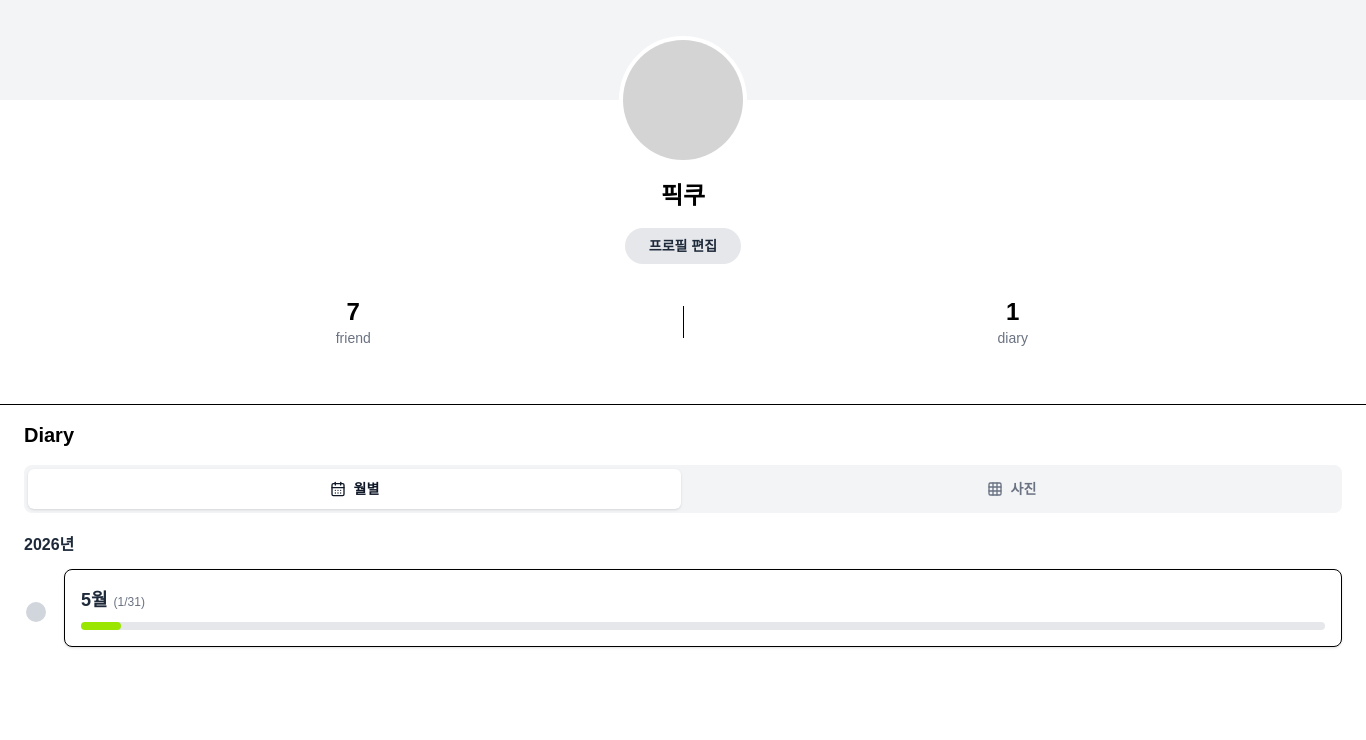
Scenario: ProfileClient › Diary 섹션 선택 UI에서 사진을 선택하면 갤러리 API로 사진 그리드를 불러온다
The width and height of the screenshot is (1366, 740).
Check: the text "5월" is shown, box x1=81 y1=586 x2=108 y2=614
Click the button "사진". click: (1012, 489)
box: x1=685 y1=469 x2=1338 y2=509
(page scrolled)
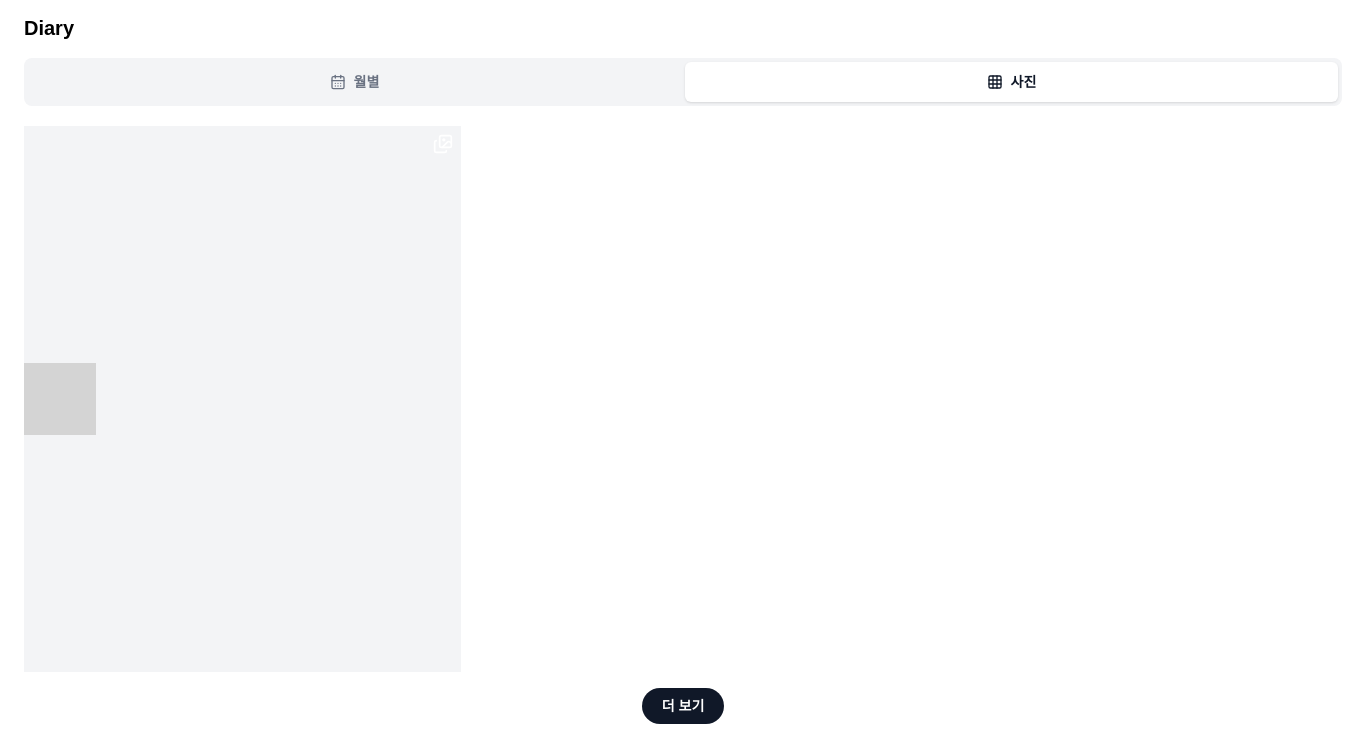
Check: the element with test id "profile-diary-photo-grid" is shown, box x1=24 y1=126 x2=461 y2=672
Check: the text "5월" is gone
Click the button "더 보기". click: (683, 706)
box: x1=642 y1=688 x2=724 y2=724
(page scrolled)
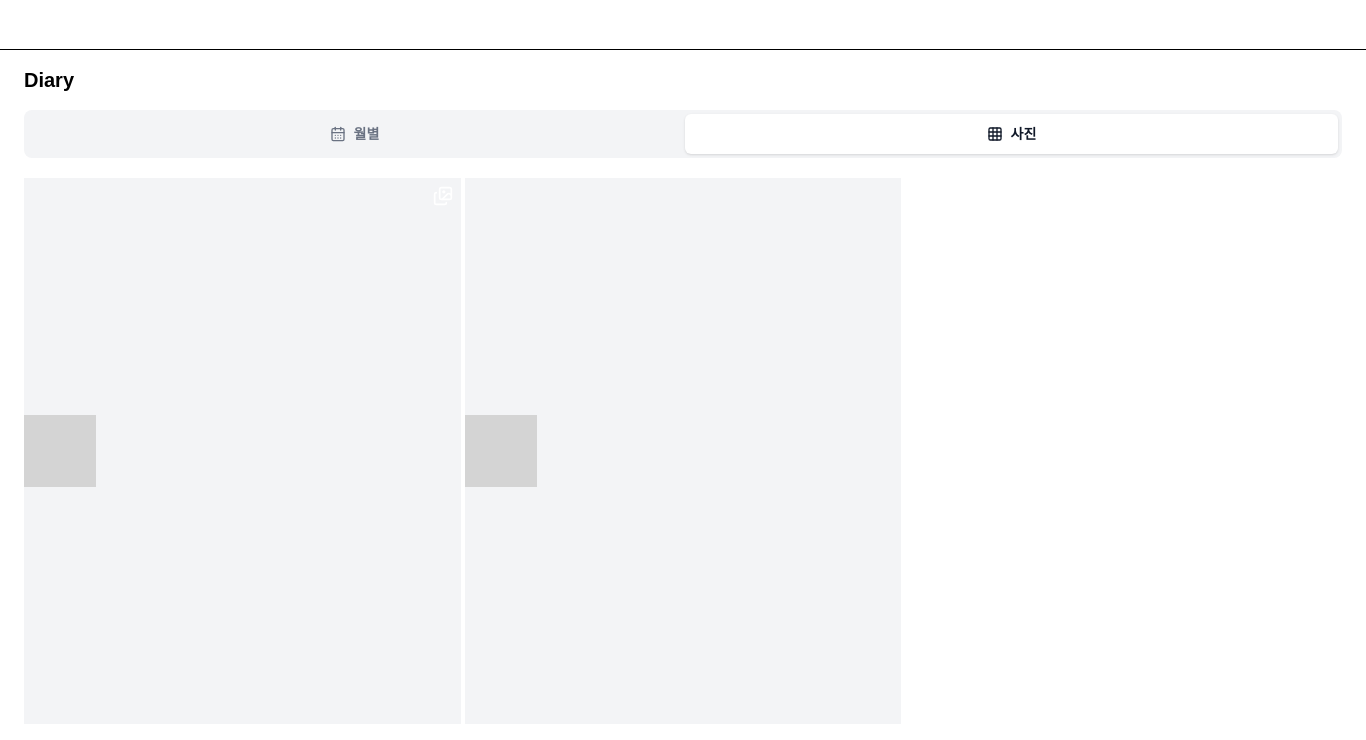
Click the button "월별". click: (354, 134)
box: x1=28 y1=114 x2=681 y2=154
(page scrolled)
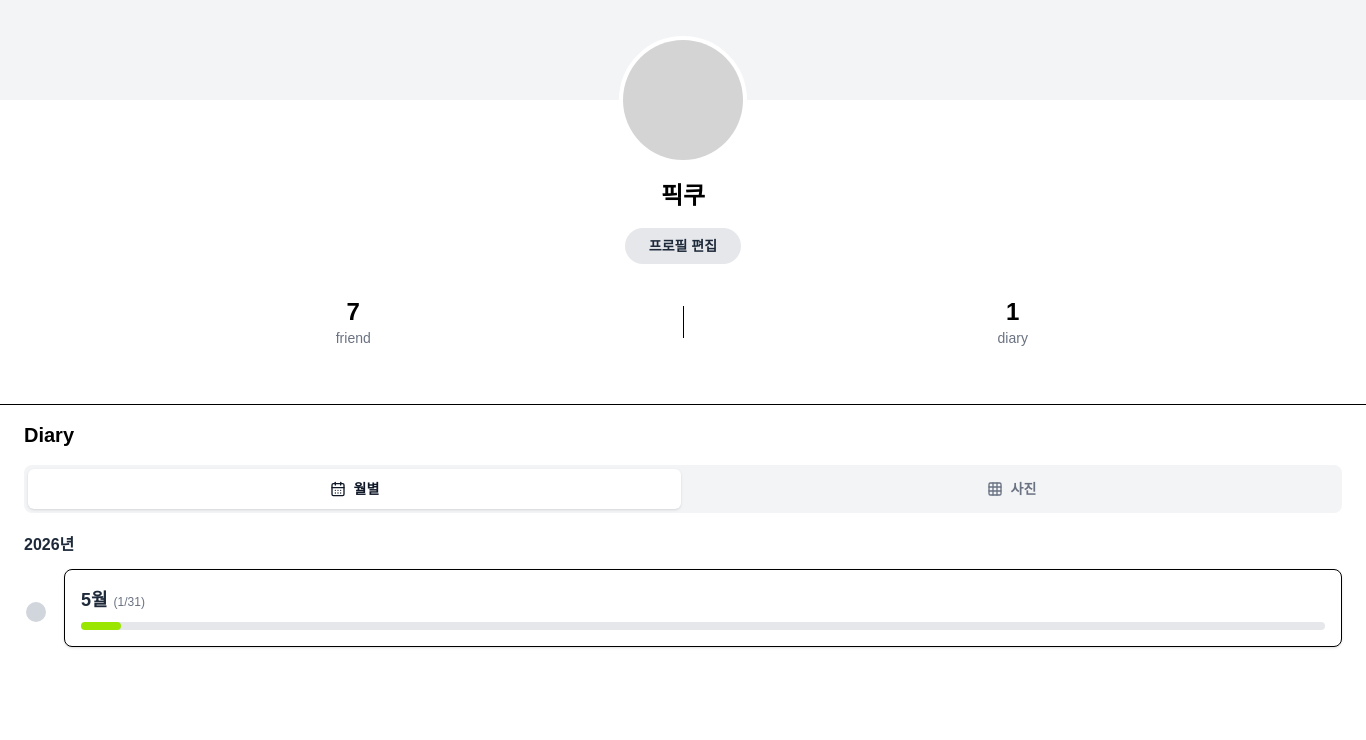
Check: the text "5월" is shown, box x1=81 y1=586 x2=108 y2=614
Check: the element with test id "profile-diary-photo-grid" is gone
